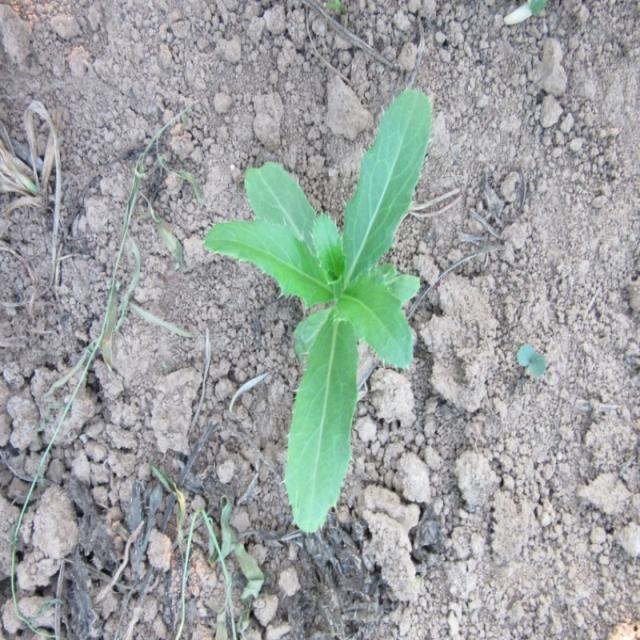cs: (202, 84, 433, 538)
